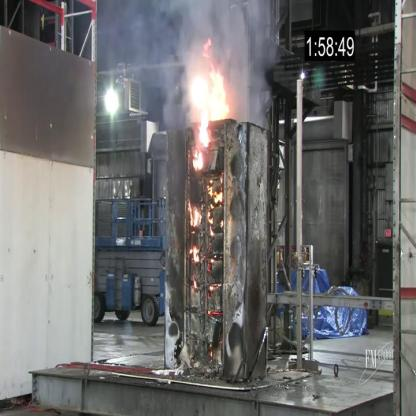fire: (190, 61, 231, 174), (207, 179, 225, 239), (188, 198, 203, 230), (190, 243, 201, 265)
